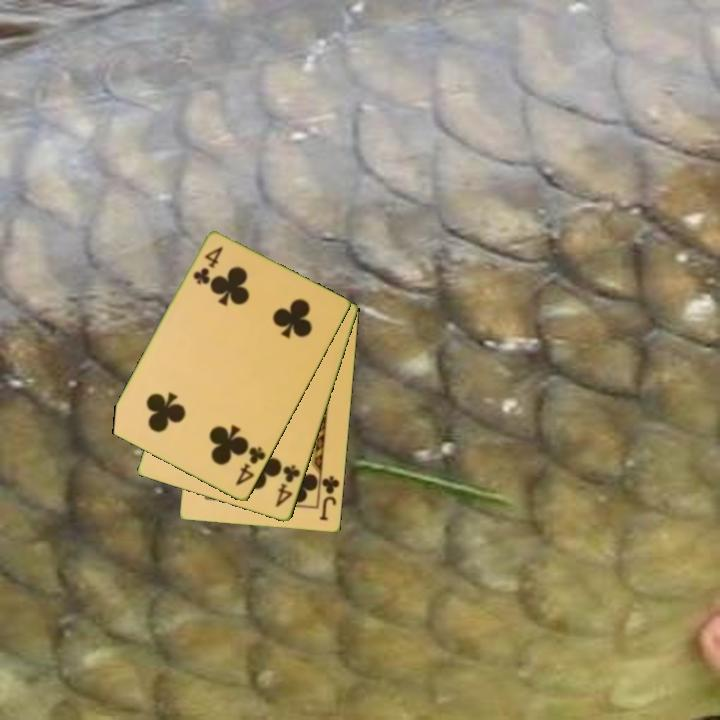4c: (232, 443, 269, 489), (189, 243, 226, 288), (272, 461, 304, 511)
Jc: (317, 469, 343, 524)
